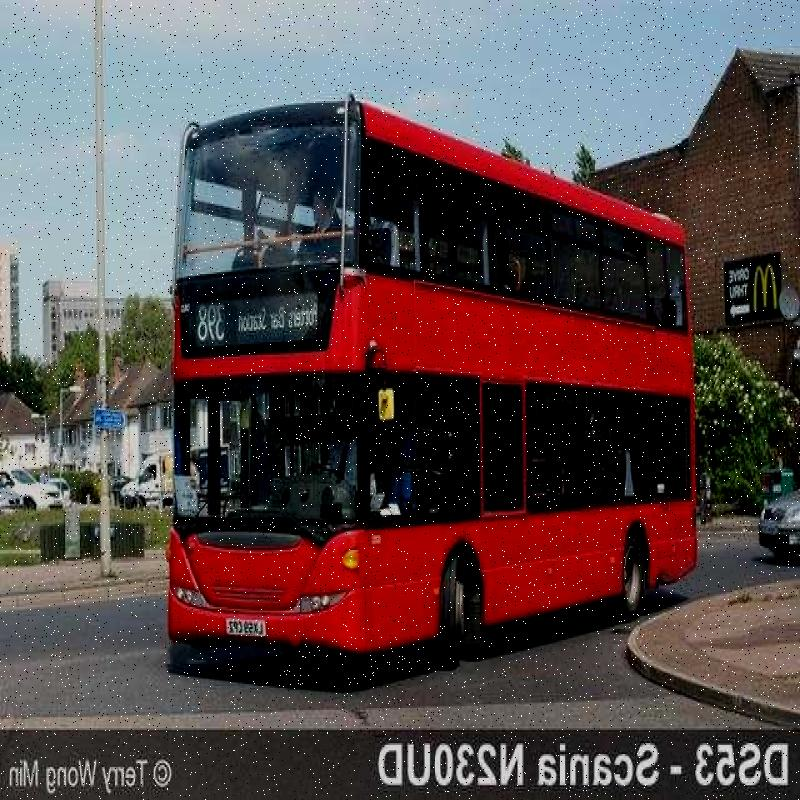bus: (113, 69, 700, 732)
